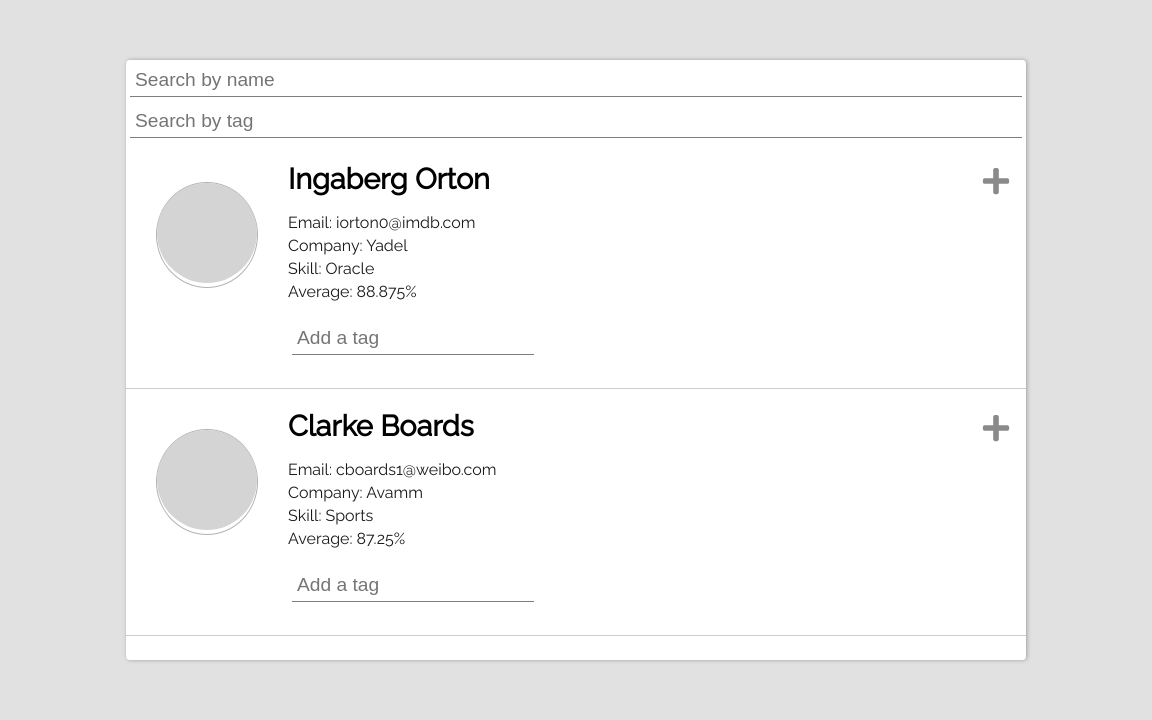
Test: Students page › User input in search by name
Type "Laurens" into the field with placeholder "Search by name" at (576, 80), box [130,64,1022,97]
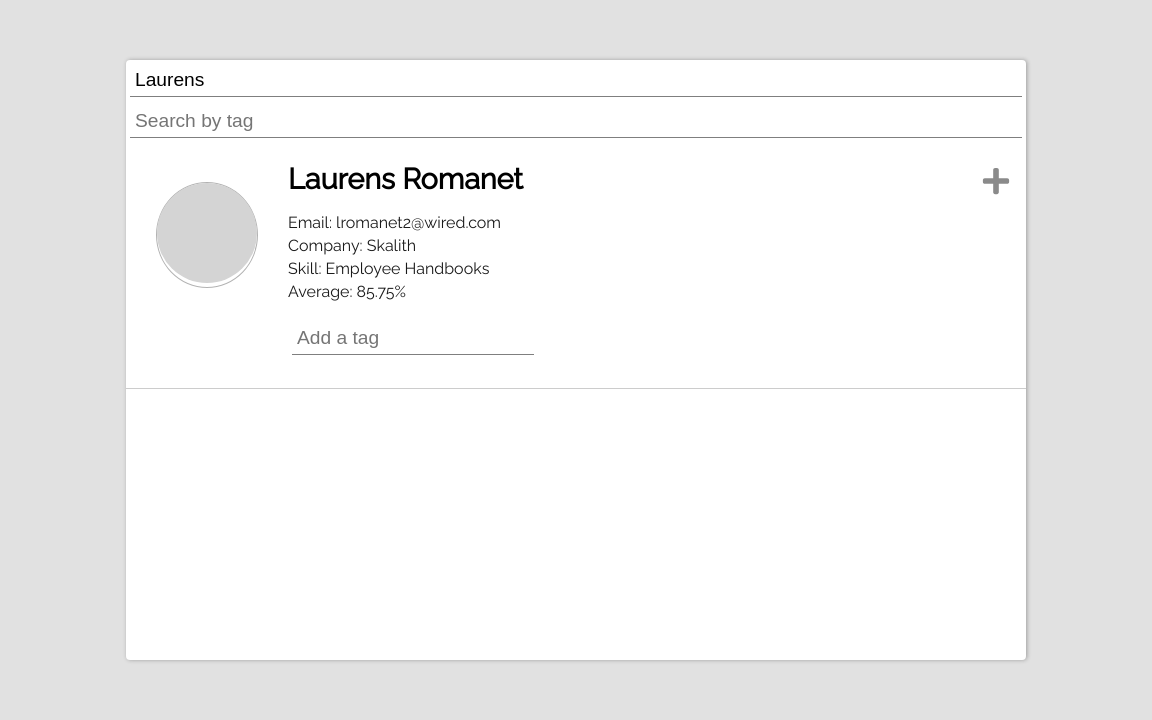
expect the number of elements with test id "student-card" is 1: met, box [126,142,1026,389]
